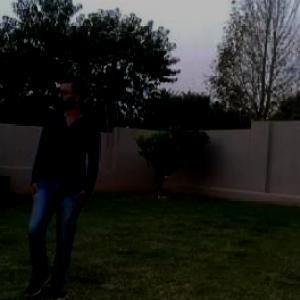follow: (24, 54, 100, 288)
